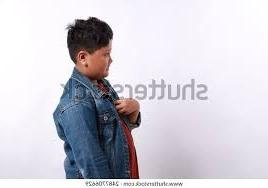Human: (54, 19, 146, 181)
